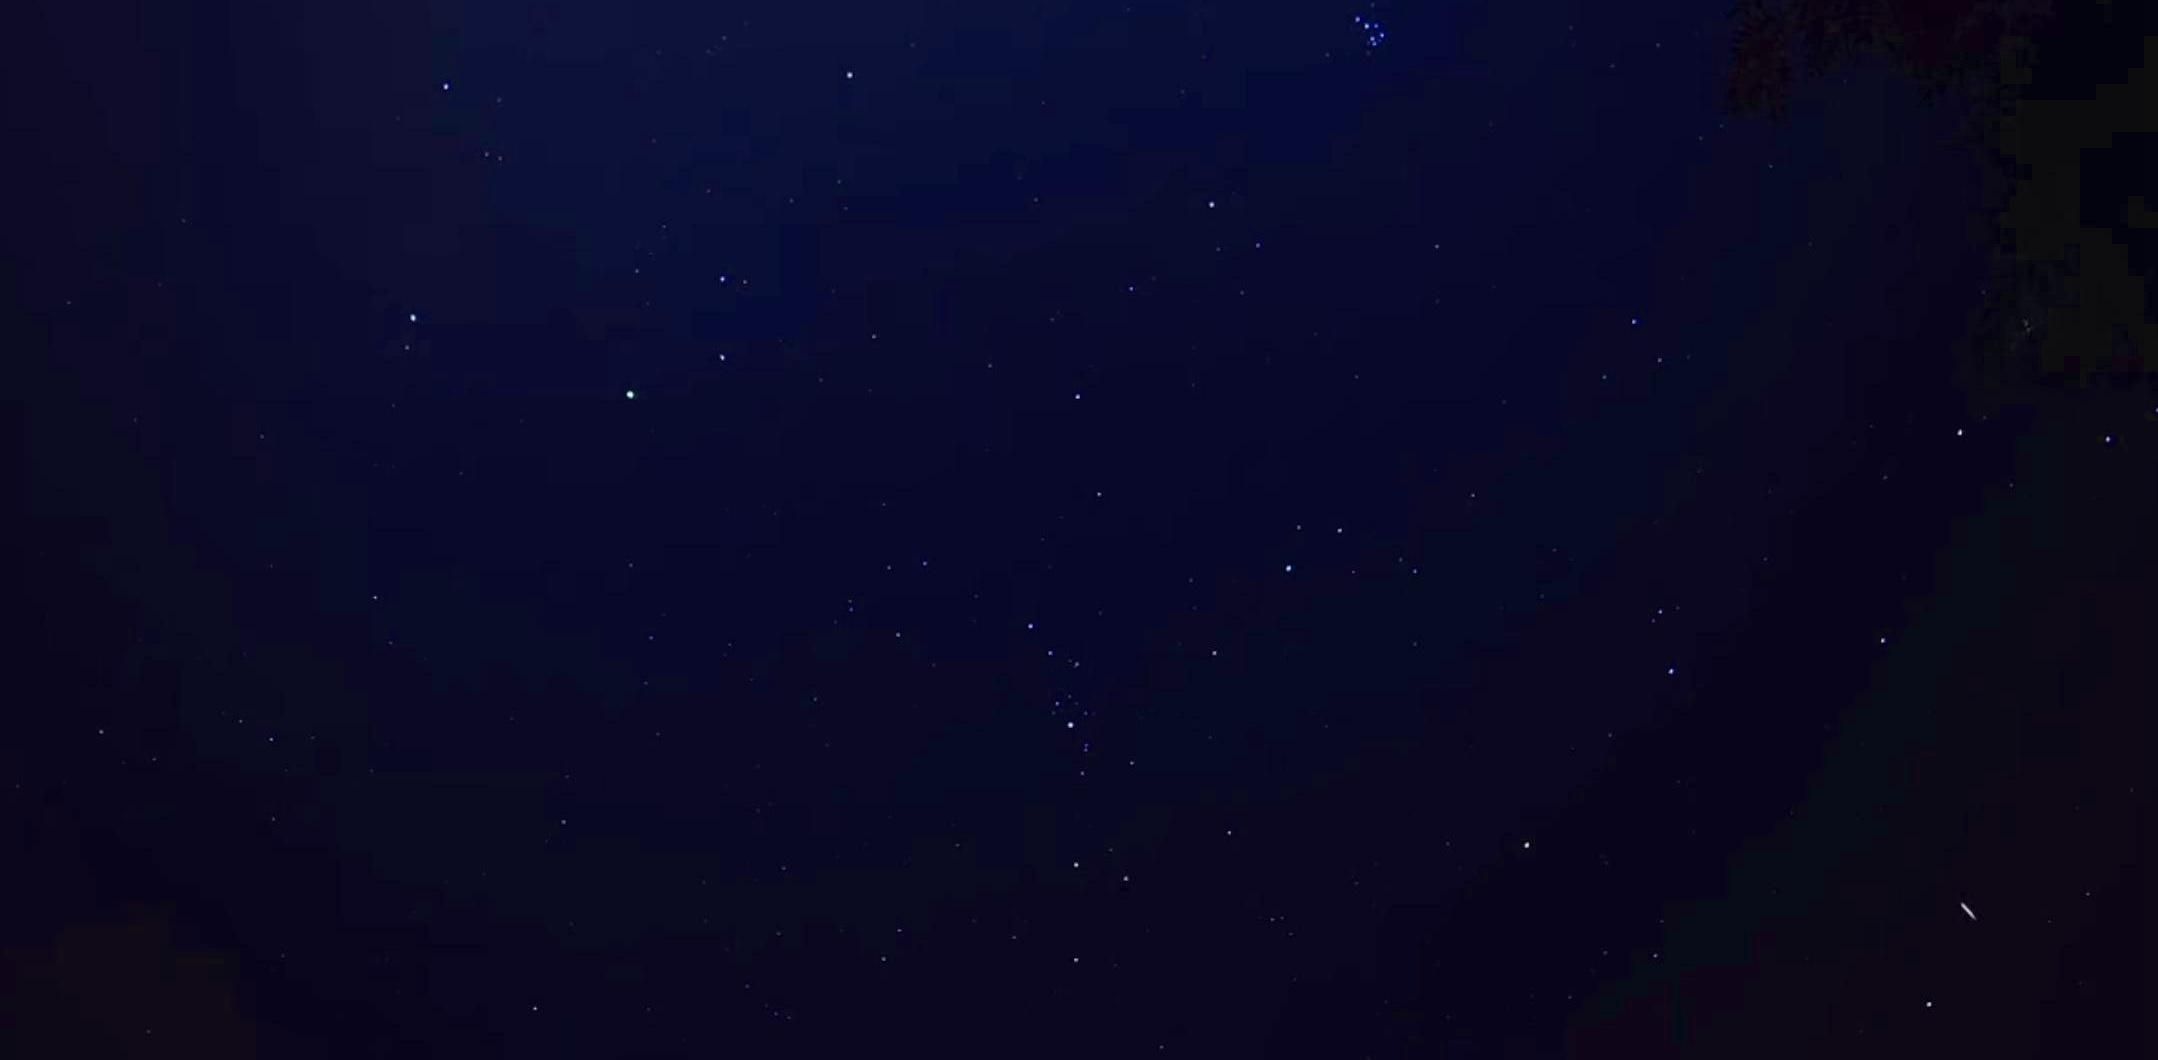meteorite: (1923, 888, 2009, 932)
